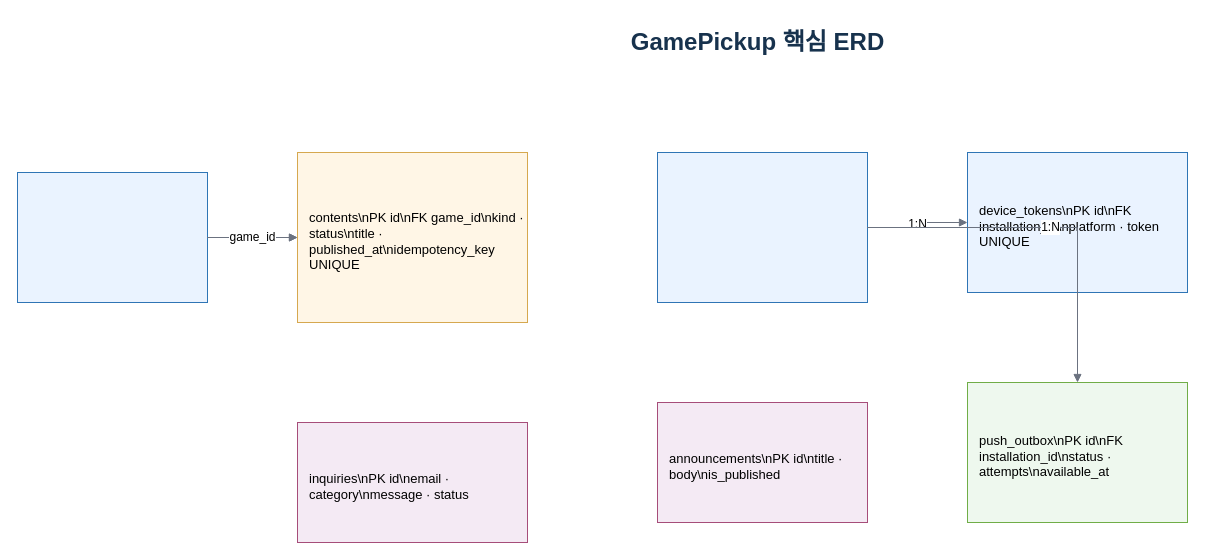
The diagram is 1205 pixels wide and 560 high, and some of its shapes have lost their labels. Each missing label, with the box of its shape:
games\nPK id\nname · genre\ninterest_count: (16, 172, 208, 302)
installations\nPK id\nsecret_hash\npreferences\nrevoked_at: (656, 152, 868, 302)
